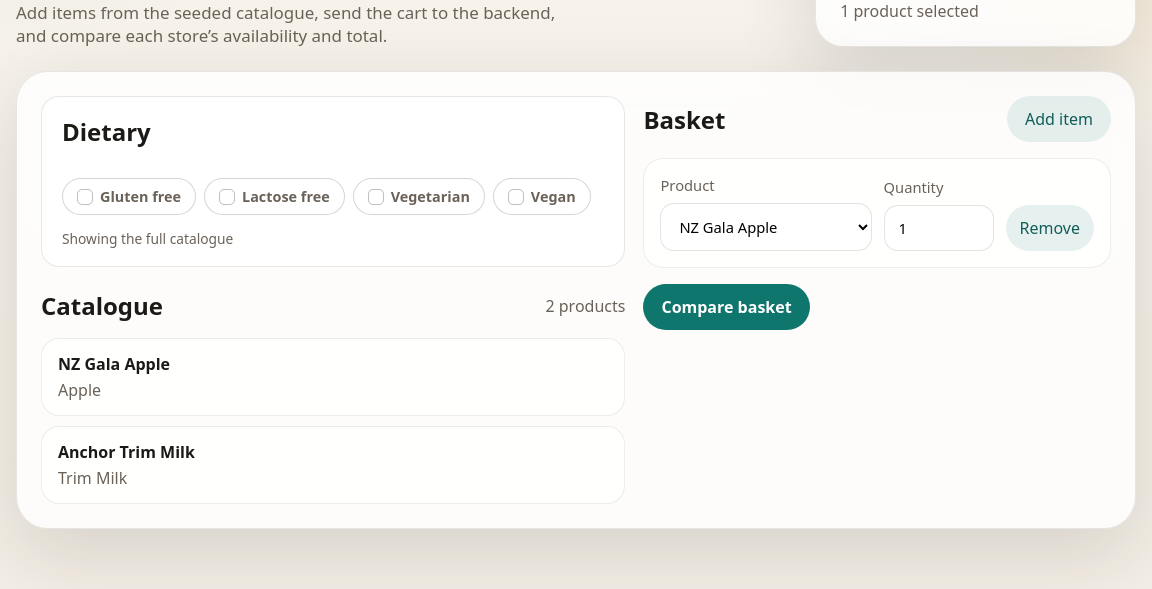
Scenario: basket comparison › falls back to a generic message when the server sends no error text
(page scrolled)
Expected: the text "Apple" is shown, [58,379,101,401]
Click the button "Compare basket" at (726, 307), box [643,284,810,330]
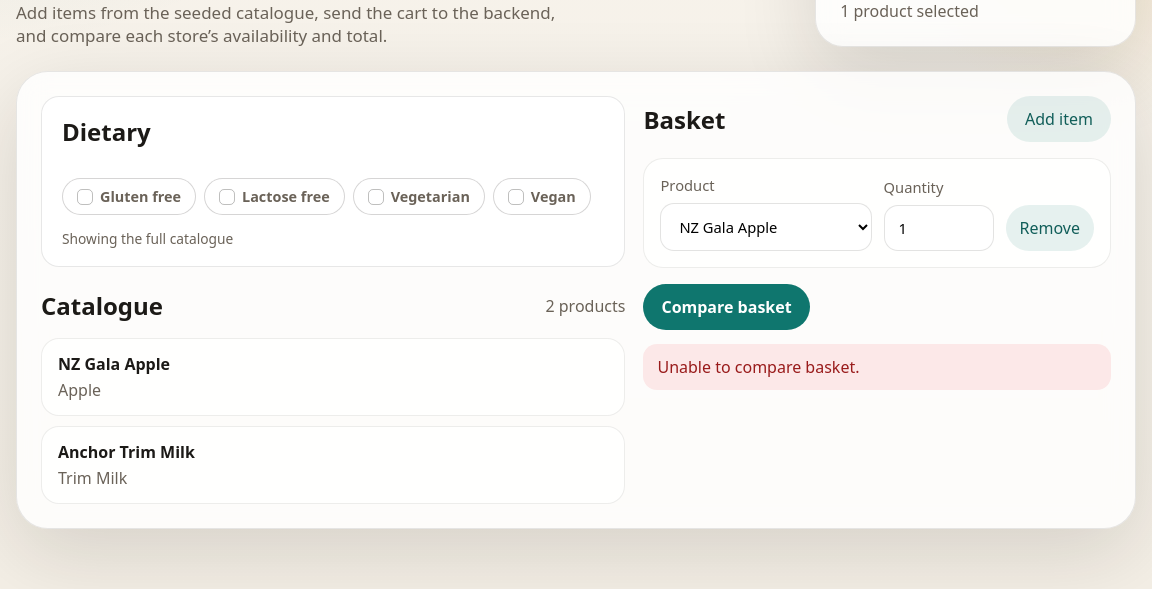
Expected: the text "Unable to compare basket." is shown, [643,344,1111,390]
